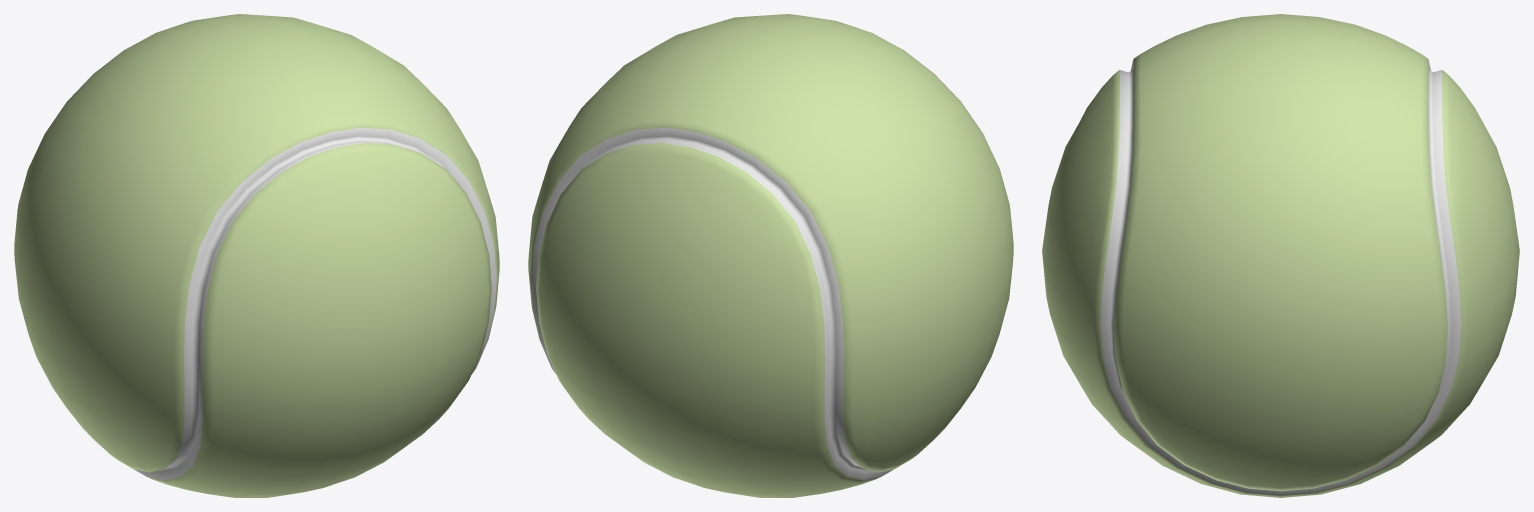
Rendered from Tennisball.fbx.
3 views of the same model, side by side, from view 1: azimuth 30°, elevation 25°; view 2: azimuth 150°, elevation 25°; view 3: azimuth 270°, elevation 25° (orthographic).
Visible parts, largest first — view 1: pCube1; view 2: pCube1; view 3: pCube1.
Part boxes in pixels (left/top/right/bottom): pCube1: left=14, top=14, right=499, bottom=497; pCube1: left=528, top=14, right=1013, bottom=497; pCube1: left=1042, top=14, right=1519, bottom=497.
Bounding box in the file's own units: 1.07 × 1.08 × 1.07.
